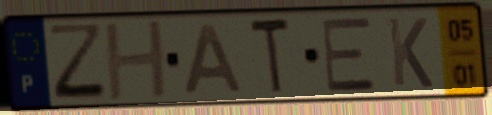A: (181, 21, 246, 97)
E: (318, 14, 380, 95)
H: (101, 17, 172, 105)
K: (384, 15, 436, 91)
T: (247, 14, 294, 99)
Z: (45, 21, 113, 103)
